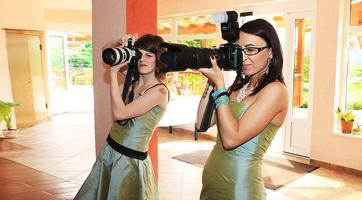person: (196, 19, 286, 199)
